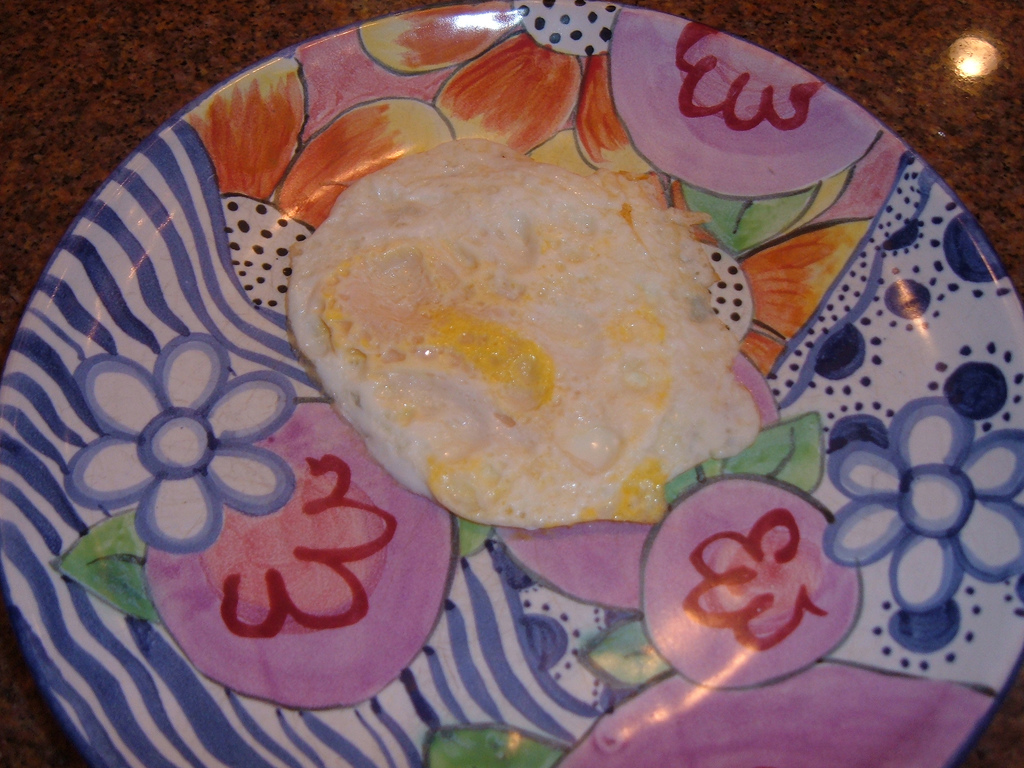fried egg: (289, 156, 776, 525)
